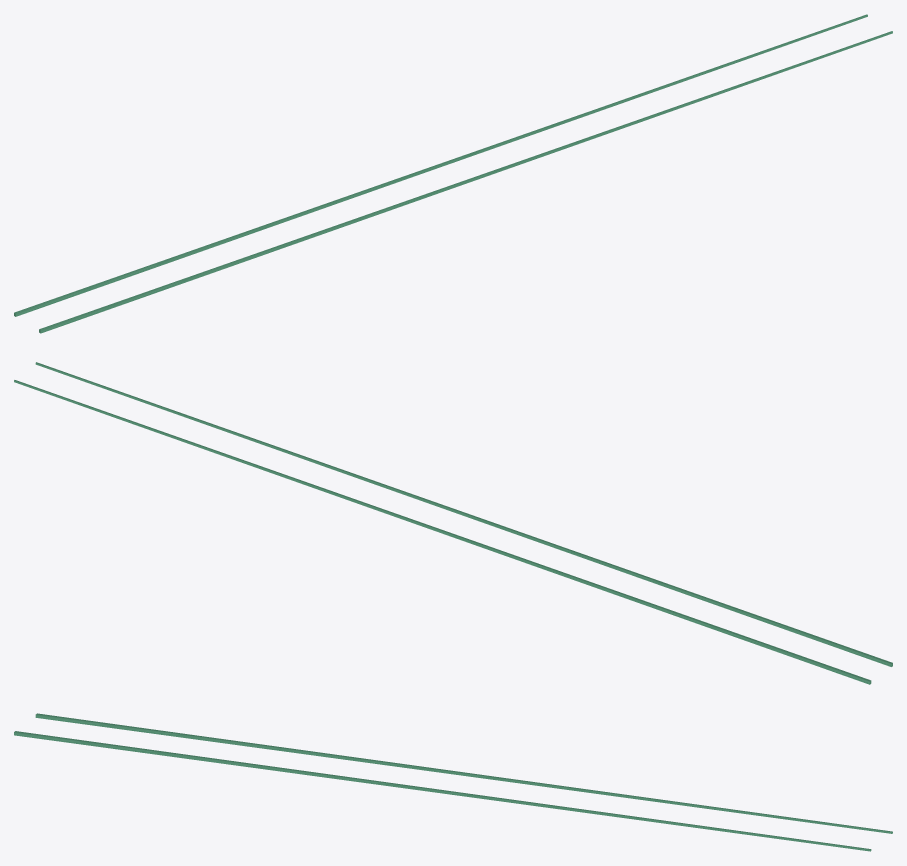
Rendered from Cables01.glb.
3 renders of one model, top to bottom at view 1: azimuth 30°, elevation 25°; view 2: azimuth 150°, elevation 25°; view 3: azimuth 330°, elevation 25°, orthographic.
Visible parts, largest first — view 1: Cables01; view 2: Cables01; view 3: Cables01.
Boxes of the visible parts, x1,y1,x2,y2 form: Cables01: (14,14,892,333); Cables01: (14,362,892,684); Cables01: (14,713,892,851).
Bounding box in the file's own units: 12999 × 1371 × 660.
Materials: 1 (1 with a texture image).
